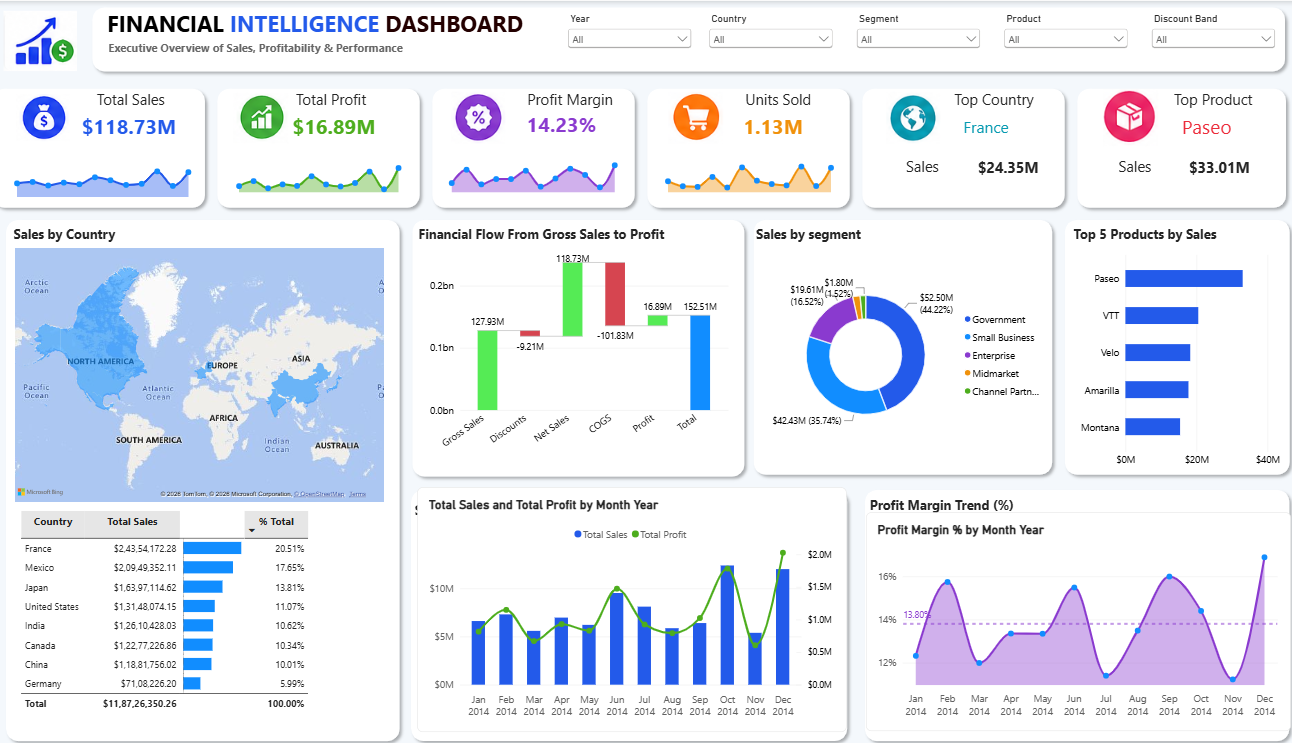

The page's visual inventory and layout, read from the dashboard file:
{"tool":"powerbi","page":{"name":"Page 1","canvas":[1920,1080],"ordinal":0},"visuals":[{"type":"shape","box":[145,0,1745,111],"z":0},{"type":"image","box":[25.3,5.4,106.8,105],"z":1000},{"type":"textbox","box":[175,10,662,61],"z":2000},{"type":"textbox","box":[177,56,631,30],"z":3000},{"type":"slicer","fields":{"Values":["Calendar.Year"]},"box":[837.9,16.3,188,80],"z":4000},{"type":"slicer","fields":{"Values":["financials.Country"]},"box":[1042.4,16.3,188,80],"z":5000},{"type":"slicer","fields":{"Values":["financials.Segment"]},"box":[1255.9,16.3,188,80],"z":6000},{"type":"slicer","fields":{"Values":["financials.Product"]},"box":[1469.4,16.3,188,80],"z":7000},{"type":"slicer","fields":{"Values":["financials.Discount Band"]},"box":[1683,16.3,188,80],"z":8000},{"type":"shape","box":[0,118.5,325.9,190.7],"z":9000},{"type":"shape","box":[325.9,118.5,311.1,190.7],"z":10000},{"type":"shape","box":[637,118.5,311.1,190.7],"z":11000},{"type":"shape","box":[948.1,118.5,311.1,190.7],"z":12000},{"type":"shape","box":[1259.3,118.5,311.1,190.7],"z":13000},{"type":"shape","box":[1570.4,118.5,320.4,190.7],"z":14000},{"type":"textbox","box":[155,126.7,108,39],"z":15000},{"type":"textbox","box":[448,126.7,141,39],"z":16000},{"type":"textbox","box":[783,126.7,137,39],"z":17000},{"type":"textbox","box":[1079.6,125.9,133.3,38.9],"z":18000},{"type":"textbox","box":[1389.8,126.7,139,39],"z":19000},{"type":"textbox","box":[1713.7,126.7,126,39],"z":20000},{"type":"image","box":[43,127,79,85],"z":21000},{"type":"image","box":[672.9,127,79,85],"z":22000},{"type":"image","box":[987.9,127,79,85],"z":23000},{"type":"image","box":[1302.9,127,79,85],"z":24000},{"type":"image","box":[1617.8,127,79,85],"z":25000},{"type":"image","box":[358,127,79,85],"z":26000},{"type":"cardVisual","fields":{"Data":["Measure.Total Sales"]},"box":[118.5,146.3,179.2,67],"z":27000},{"type":"cardVisual","fields":{"Data":["Measure.Total Profit"]},"box":[414.8,146.3,179.2,67],"z":28000},{"type":"cardVisual","fields":{"Data":["Measure.Profit Margin %"]},"box":[745.1,144.1,175,67],"z":29000},{"type":"cardVisual","fields":{"Data":["Measure.Units Sold"]},"box":[1079.6,146.3,175,67],"z":30000},{"type":"cardVisual","fields":{"Data":["Measure.Top Country"]},"box":[1398.1,148.1,147,67],"z":31000},{"type":"cardVisual","fields":{"Data":["Measure.Top Product"]},"box":[1714.8,148.1,176,67],"z":32000},{"type":"areaChart","fields":{"Y":["Measure.Total Sales"],"Category":["Calendar.Date"]},"box":[19.9,215.3,298.1,85.2],"z":33000},{"type":"areaChart","fields":{"Category":["Calendar.Date"],"Y":["Measure.Total Profit"]},"box":[342.6,207.4,279.6,85.2],"z":34000},{"type":"areaChart","fields":{"Category":["Calendar.Date"],"Y":["Measure.Profit Margin %"]},"box":[650,207.4,285.2,85.2],"z":35000},{"type":"areaChart","fields":{"Category":["Calendar.Date"],"Y":["Measure.Units Sold"]},"box":[963,207.4,285.2,85.2],"z":36000},{"type":"cardVisual","fields":{"Data":["Measure.Total Sales"]},"box":[1390.7,207.4,176,66],"z":37000},{"type":"textbox","box":[1331.5,224.1,133.3,35.2],"z":38000},{"type":"cardVisual","fields":{"Data":["Measure.Total Sales"]},"box":[1698.1,207.4,176,66],"z":39000},{"type":"textbox","box":[1638.9,224.1,118.5,44.4],"z":40000},{"type":"shape","box":[19.9,307.6,588,773],"z":41000},{"type":"shape","box":[608,307.6,499,390],"z":42000},{"type":"shape","box":[1102.1,307.6,450.6,387.3],"z":43000},{"type":"shape","box":[1552.7,307.6,343.8,387.3],"z":44000},{"type":"shape","box":[606.2,698.5,649.7,381.8],"z":45000},{"type":"shape","box":[1263.1,698.5,633,382],"z":46000},{"type":"textbox","box":[43.4,331.2,356.5,68.8],"z":47000},{"type":"textbox","box":[39.8,323.9,479,41],"z":48000},{"type":"filledMap","fields":{"Category":["financials.Country"]},"box":[24.7,343.7,566,397.3],"z":49000},{"type":"tableEx","fields":{"Values":["financials.Country","Measure.Total Sales","Sum(financials. Sales)","Divide(Measure.Total Sales, ScopedEval(Measure.Total Sales, []))"]},"box":[35,724.5,555.7,333.4],"z":50000},{"type":"waterfallChart","fields":{"Category":["Financial Flow.Stage"],"Y":["Financial Flow.Financial Flow Value"]},"box":[625.7,343.7,465,336],"z":51000},{"type":"textbox","box":[625.7,323.2,444.6,55.6],"z":52000},{"type":"textbox","box":[1114.8,323.9,217.2,88.7],"z":53000},{"type":"donutChart","fields":{"Category":["financials.Segment"],"Y":["Measure.Total Sales"]},"box":[1116.6,343.8,436,338],"z":54000},{"type":"textbox","box":[1574.4,323.9,266,41.6],"z":55000},{"type":"barChart","fields":{"Y":["Measure.Total Sales"],"Category":["financials.Product"]},"box":[1563.5,345.6,325.7,349.3],"z":56000},{"type":"textbox","box":[621.6,724.5,298.5,61.7],"z":57000},{"type":"lineClusteredColumnComboChart","fields":{"Category":["Calendar.Month Year"],"Y":["Measure.Total Sales"],"Y2":["Measure.Total Profit"]},"box":[623.7,703.9,621.6,354],"z":58000},{"type":"textbox","box":[1280.3,716.3,358.1,70],"z":59000},{"type":"areaChart","fields":{"Category":["Calendar.Month Year"],"Y":["Measure.Profit Margin %"]},"box":[1274.1,741,615.4,317],"z":60000}]}

Visuals, with their boxes in screenshot pixels (x1, y1, x2, y2), scaled from the page's 1920x1080 canvas onto the 1292x743 screenshot:
shape: detection(98, 0, 1272, 76)
image: detection(17, 4, 89, 76)
textbox: detection(118, 7, 563, 49)
textbox: detection(119, 39, 544, 59)
slicer - Calendar.Year: detection(564, 11, 690, 66)
slicer - financials.Country: detection(701, 11, 828, 66)
slicer - financials.Segment: detection(845, 11, 972, 66)
slicer - financials.Product: detection(989, 11, 1115, 66)
slicer - financials.Discount Band: detection(1133, 11, 1259, 66)
shape: detection(0, 82, 219, 213)
shape: detection(219, 82, 429, 213)
shape: detection(429, 82, 638, 213)
shape: detection(638, 82, 847, 213)
shape: detection(847, 82, 1057, 213)
shape: detection(1057, 82, 1272, 213)
textbox: detection(104, 87, 177, 114)
textbox: detection(301, 87, 396, 114)
textbox: detection(527, 87, 619, 114)
textbox: detection(726, 87, 816, 113)
textbox: detection(935, 87, 1029, 114)
textbox: detection(1153, 87, 1238, 114)
image: detection(29, 87, 82, 146)
image: detection(453, 87, 506, 146)
image: detection(665, 87, 718, 146)
image: detection(877, 87, 930, 146)
image: detection(1089, 87, 1142, 146)
image: detection(241, 87, 294, 146)
cardVisual - Measure.Total Sales: detection(80, 101, 200, 147)
cardVisual - Measure.Total Profit: detection(279, 101, 400, 147)
cardVisual - Measure.Profit Margin %: detection(501, 99, 619, 145)
cardVisual - Measure.Units Sold: detection(726, 101, 844, 147)
cardVisual - Measure.Top Country: detection(941, 102, 1040, 148)
cardVisual - Measure.Top Product: detection(1154, 102, 1272, 148)
areaChart - Measure.Total Sales x Calendar.Date: detection(13, 148, 214, 207)
areaChart - Calendar.Date x Measure.Total Profit: detection(231, 143, 419, 201)
areaChart - Calendar.Date x Measure.Profit Margin %: detection(437, 143, 629, 201)
areaChart - Calendar.Date x Measure.Units Sold: detection(648, 143, 840, 201)
cardVisual - Measure.Total Sales: detection(936, 143, 1054, 188)
textbox: detection(896, 154, 986, 178)
cardVisual - Measure.Total Sales: detection(1143, 143, 1261, 188)
textbox: detection(1103, 154, 1183, 185)
shape: detection(13, 212, 409, 742)
shape: detection(409, 212, 745, 480)
shape: detection(742, 212, 1045, 478)
shape: detection(1045, 212, 1276, 478)
shape: detection(408, 481, 845, 742)
shape: detection(850, 481, 1276, 742)
textbox: detection(29, 228, 269, 275)
textbox: detection(27, 223, 349, 251)
filledMap - financials.Country: detection(17, 236, 397, 510)
tableEx - financials.Country x Measure.Total Sales: detection(24, 498, 397, 728)
waterfallChart - Financial Flow.Stage x Financial Flow.Financial Flow Value: detection(421, 236, 734, 468)
textbox: detection(421, 222, 720, 261)
textbox: detection(750, 223, 896, 284)
donutChart - financials.Segment x Measure.Total Sales: detection(751, 237, 1045, 469)
textbox: detection(1059, 223, 1238, 251)
barChart - Measure.Total Sales x financials.Product: detection(1052, 238, 1271, 478)
textbox: detection(418, 498, 619, 541)
lineClusteredColumnComboChart - Calendar.Month Year x Measure.Total Sales: detection(420, 484, 838, 728)
textbox: detection(862, 493, 1103, 541)
areaChart - Calendar.Month Year x Measure.Profit Margin %: detection(857, 510, 1271, 728)
